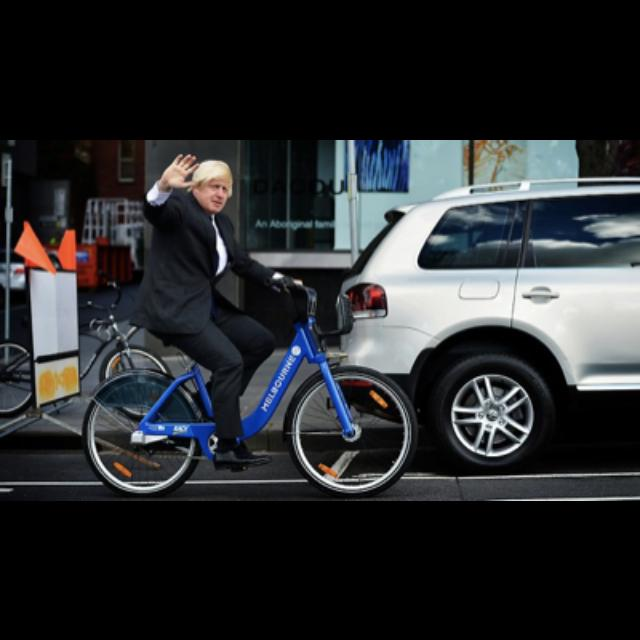Without Helmet: (188, 153, 238, 217)
